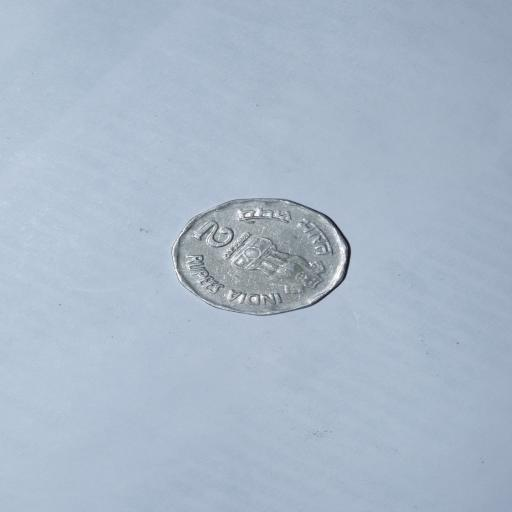rupee2: (170, 198, 353, 315)
